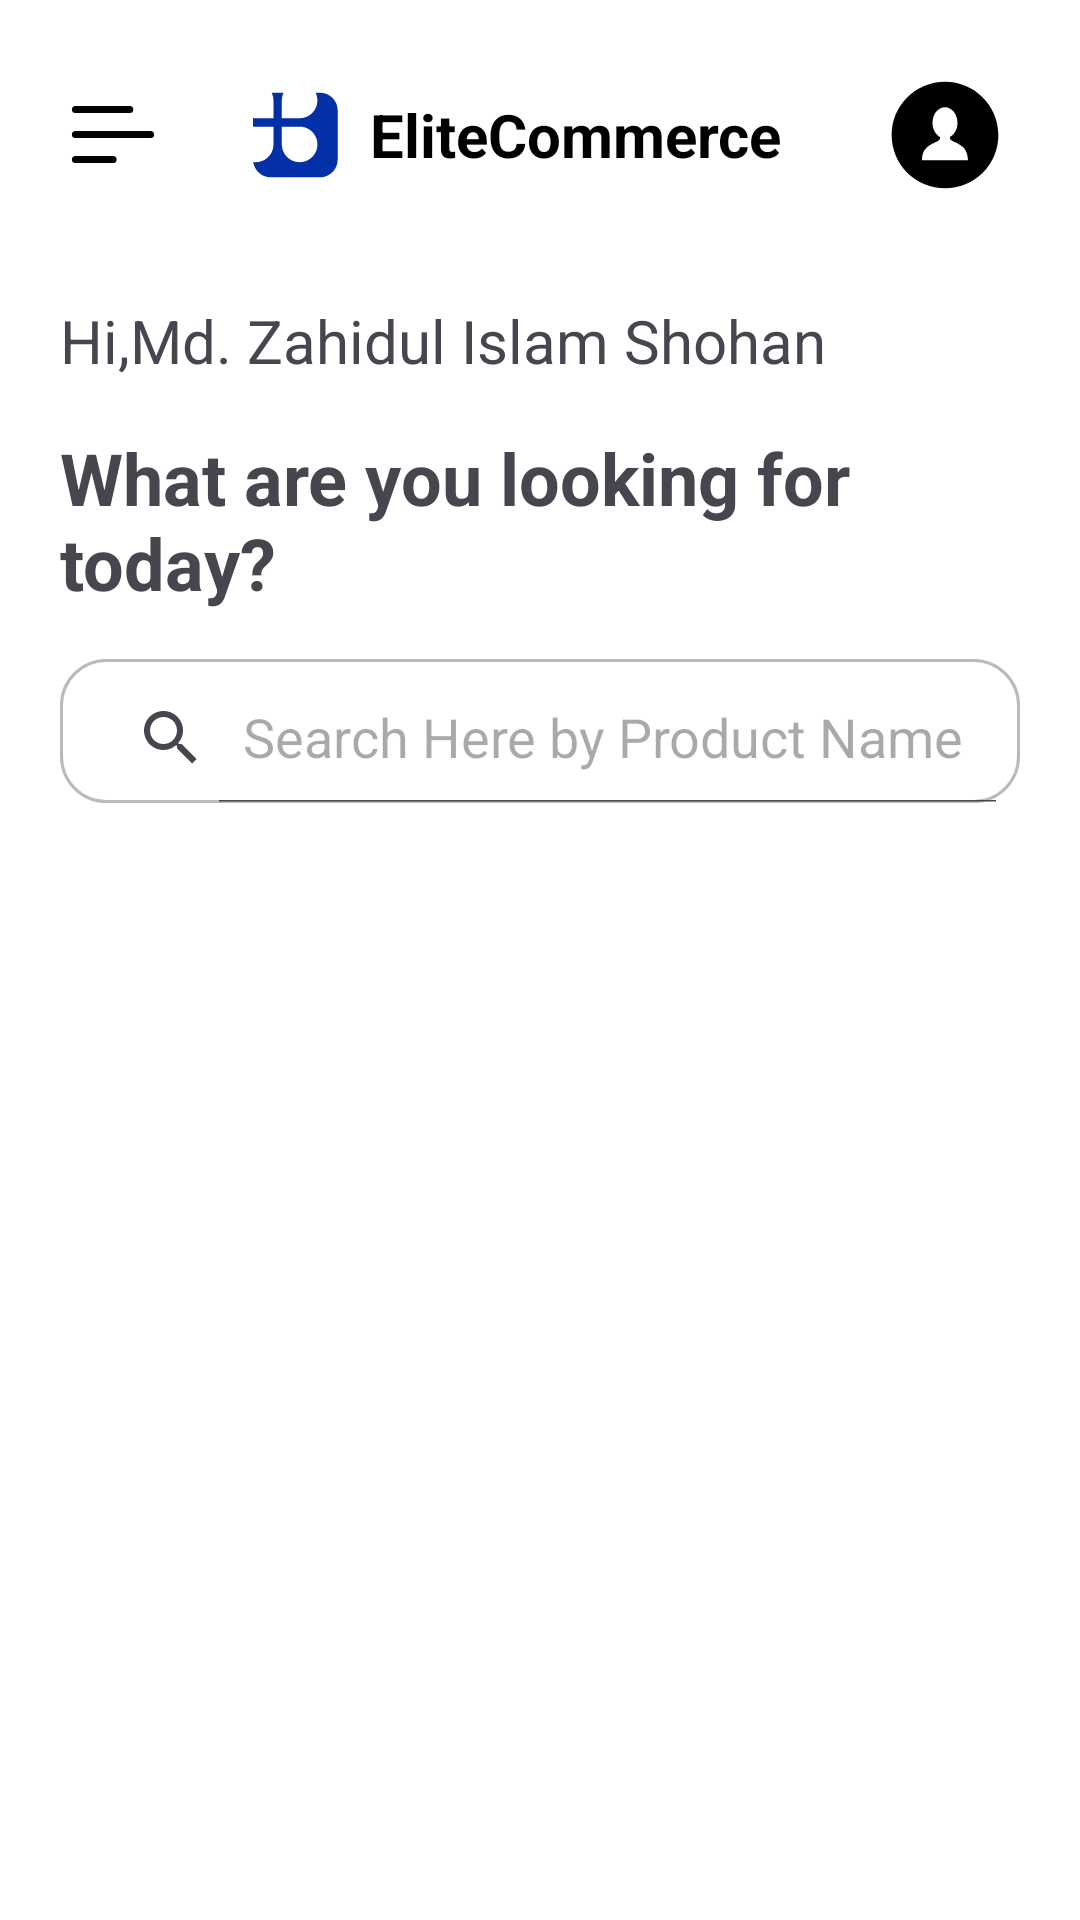

Locate icon controls on the screen. Image size 1080 × 1920, boxes as (x1, y1, x2, y2).
side drawer: (72, 106, 154, 163)
user: (891, 81, 999, 189)
